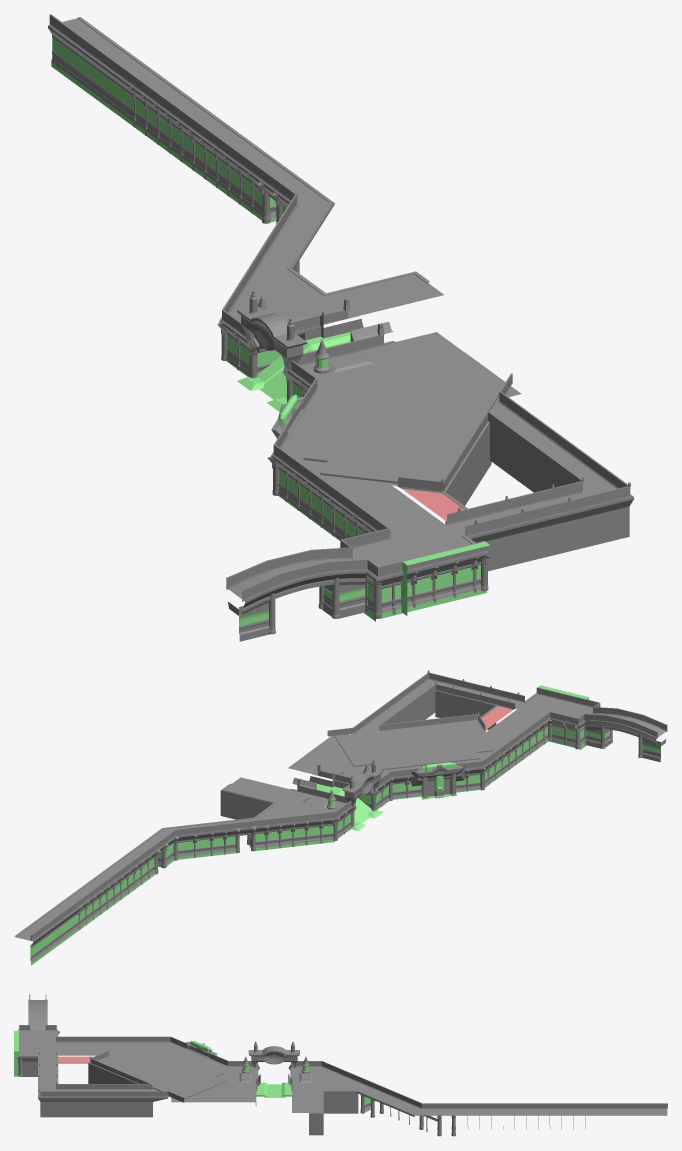
The model's file is COL_SM_ENV_KNVLLG03_BridgeB.gltf.
3 views of the same model, one above another, from view 1: azimuth 30°, elevation 25°; view 2: azimuth 150°, elevation 25°; view 3: azimuth 270°, elevation 25° (orthographic). The views are drawn at different scales.
Visible parts, largest first — view 1: COL_SM_ENV_KNVLLG03_BridgeB; view 2: COL_SM_ENV_KNVLLG03_BridgeB; view 3: COL_SM_ENV_KNVLLG03_BridgeB.
Part boxes in pixels (x1=…): COL_SM_ENV_KNVLLG03_BridgeB: x1=48, y1=14, x2=633, y2=641; COL_SM_ENV_KNVLLG03_BridgeB: x1=14, y1=670, x2=667, y2=965; COL_SM_ENV_KNVLLG03_BridgeB: x1=14, y1=994, x2=667, y2=1136.
Size of the model in its own units: 77.36 by 14.46 by 182.
